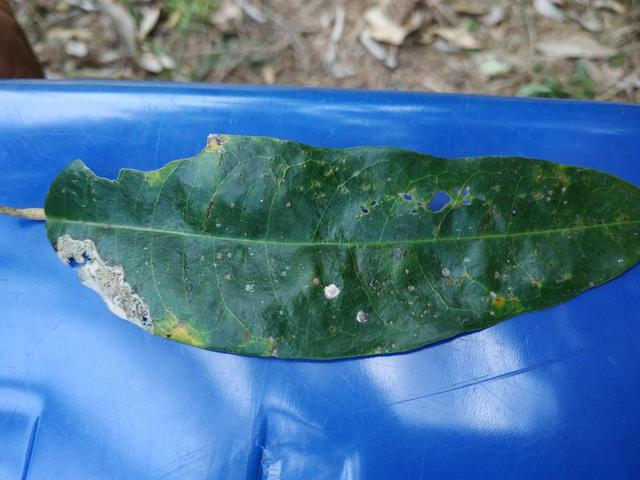blight spot: (352, 183, 501, 233)
